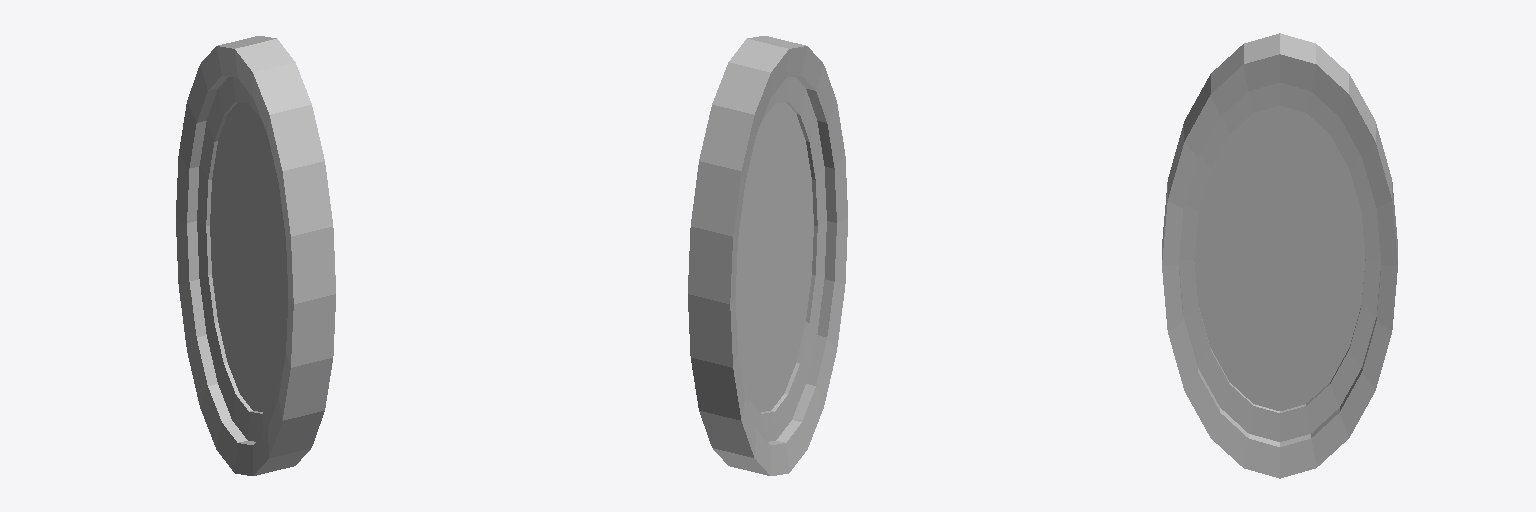
File: Coin.obj
3 views of the same model, side by side, from view 1: azimuth 30°, elevation 25°; view 2: azimuth 150°, elevation 25°; view 3: azimuth 270°, elevation 25° (orthographic).
Parts seen in each view (by area): view 1: pCylinder1; view 2: pCylinder1; view 3: pCylinder1.
Boxes of the visible parts, x1=… form: pCylinder1: x1=176, y1=36, x2=335, y2=475; pCylinder1: x1=688, y1=36, x2=847, y2=475; pCylinder1: x1=1162, y1=33, x2=1397, y2=478.
Bounding box in the file's own units: 0.416 × 3.97 × 2.